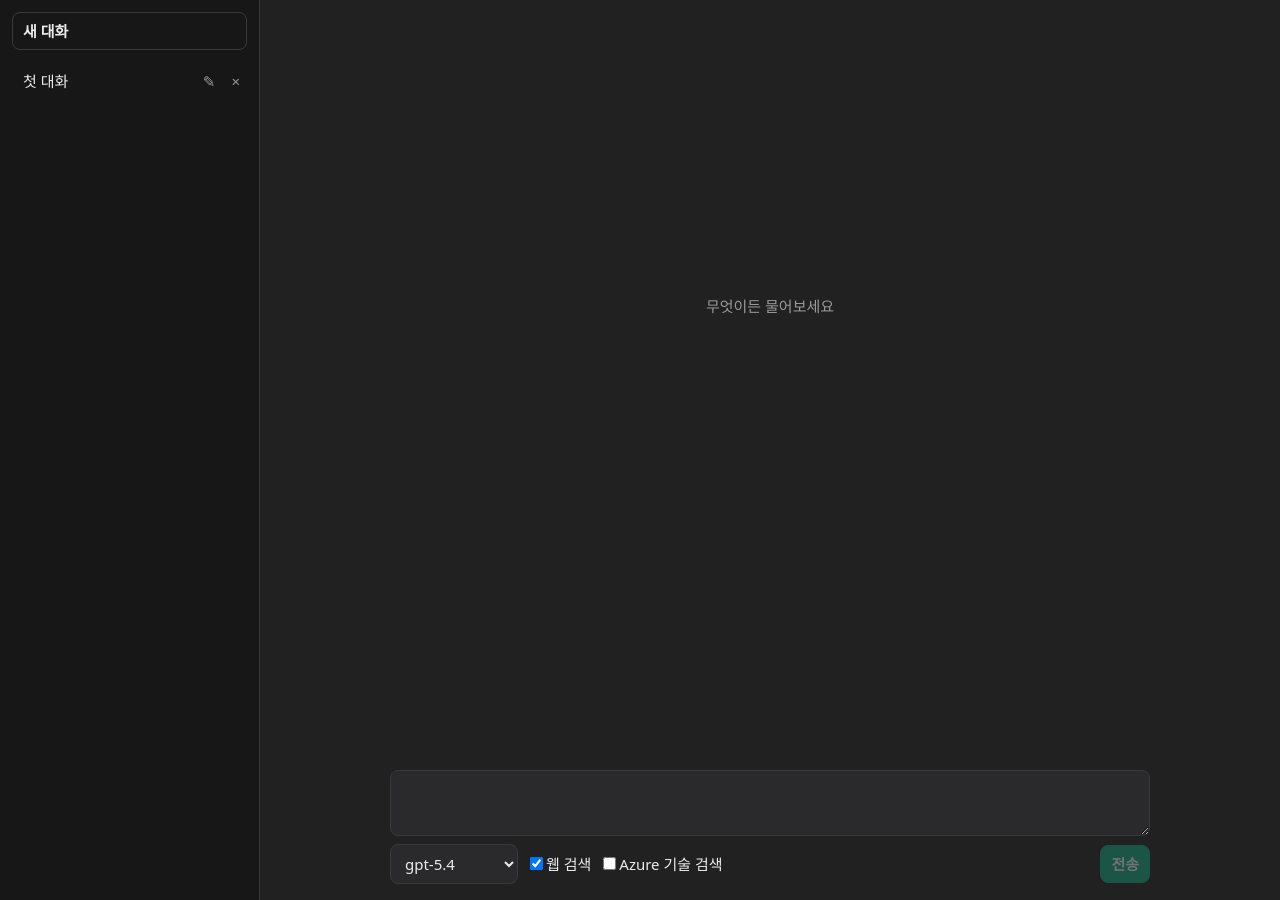
Test: lists conversations in the sidebar and loads one on click
This screenshot has width=1280, height=900.
Step 1. Click the button "첫 대화" → [103, 81], box [12,62,194,100]
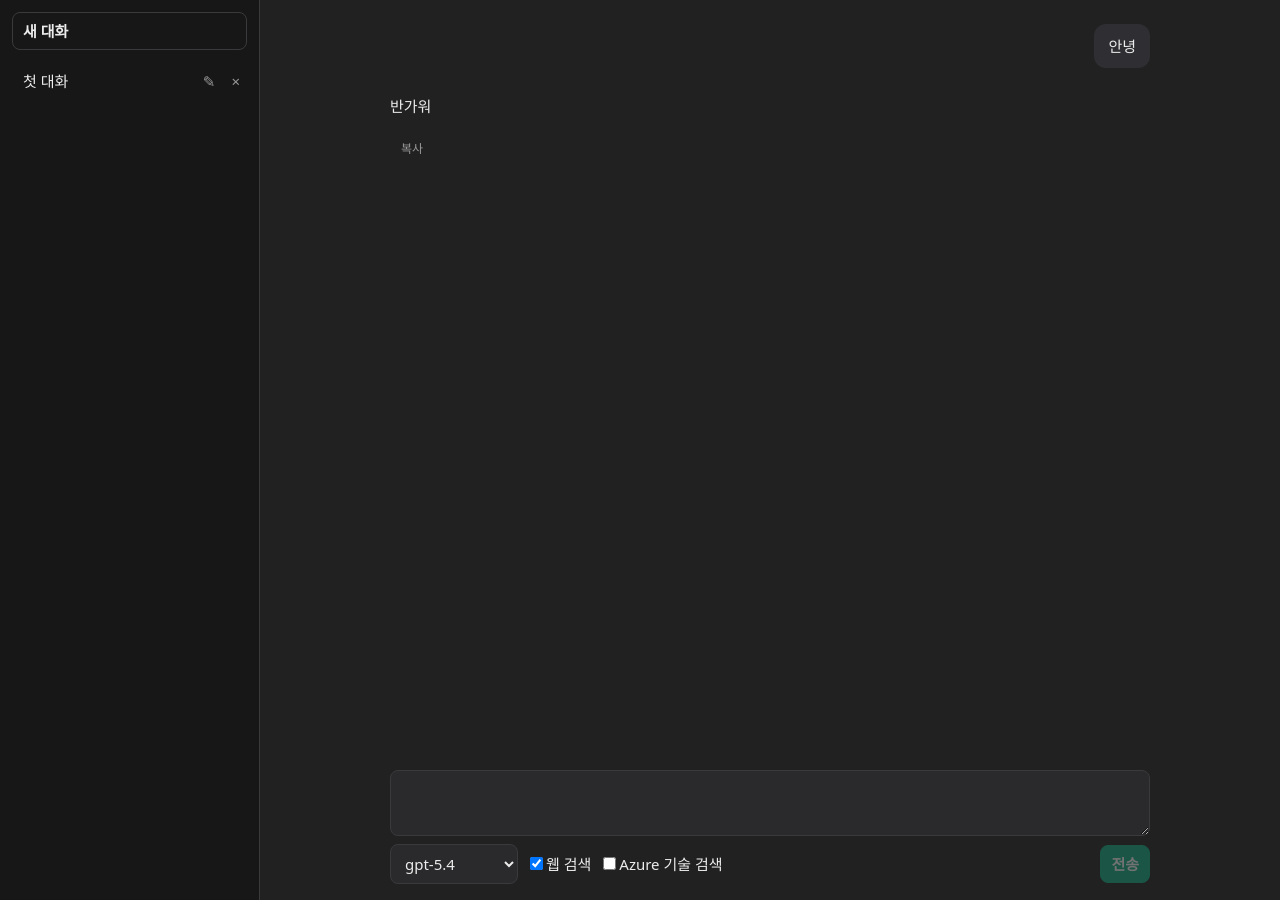
Now the text "반가워" is shown, box [390,96,431,116]
